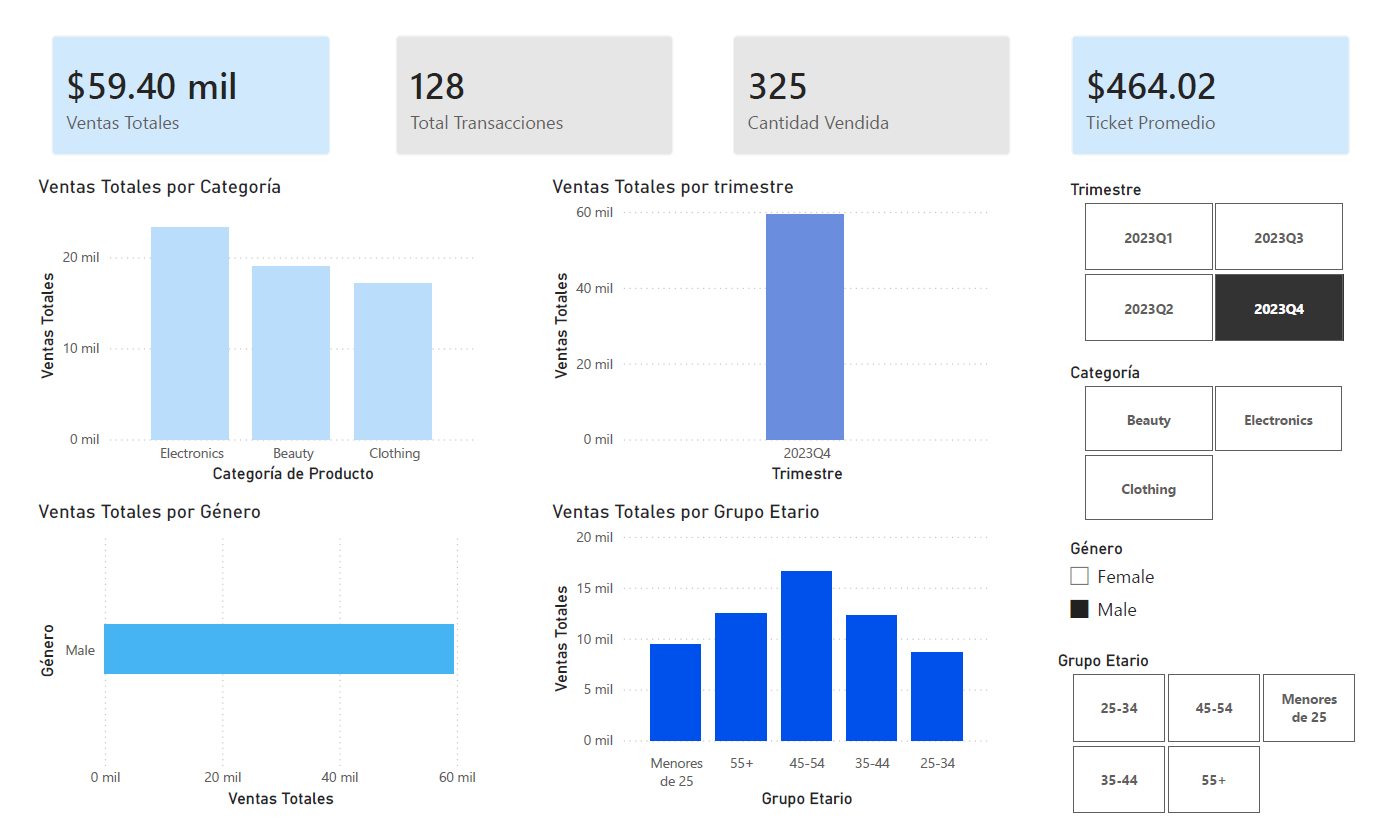

Layout of this report page (visuals, bound fields, positions):
{"tool":"powerbi","page":{"name":"Página 1","canvas":[1280,720],"ordinal":0},"visuals":[{"type":"cardVisual","fields":{"Data":["ventas_limpio.Ventas Totales"]},"box":[9.7,0,280.1,140.1],"z":0},{"type":"cardVisual","fields":{"Data":["ventas_limpio.Total Transacciones"]},"box":[314.2,0,279.1,140.1],"z":1000},{"type":"cardVisual","fields":{"Data":["ventas_limpio.Cantidad Vendida"]},"box":[611.8,0,279.1,140.1],"z":2000},{"type":"cardVisual","fields":{"Data":["ventas_limpio.Ticket Promedio"]},"box":[911.4,0,279.1,140.1],"z":3000},{"type":"columnChart","title":"Ventas Totales por Categoría","fields":{"Category":["ventas_limpio.Product Category"],"Y":["ventas_limpio.Ventas Totales"]},"box":[9.7,140.1,396.8,277.2],"z":4000},{"type":"clusteredColumnChart","fields":{"Category":["ventas_limpio.trimestre"],"Y":["ventas_limpio.Ventas Totales"]},"box":[464,140.1,396.8,277.2],"z":5000},{"type":"barChart","title":"Ventas Totales por Género","fields":{"Category":["ventas_limpio.Gender"],"Y":["ventas_limpio.Ventas Totales"]},"box":[10,427,397,277],"z":6000},{"type":"columnChart","title":"Ventas Totales por Grupo Etario","fields":{"Category":["ventas_limpio.grupo_etario"],"Y":["ventas_limpio.Ventas Totales"]},"box":[464,427,397,277],"z":7000},{"type":"slicer","title":"T","fields":{"Values":["ventas_limpio.trimestre"]},"box":[913.7,140.1,278.2,153.7],"z":8000},{"type":"slicer","fields":{"Values":["ventas_limpio.Product Category"]},"box":[914.3,301.5,277.2,150.8],"z":9000},{"type":"slicer","fields":{"Values":["ventas_limpio.Gender"]},"box":[914.3,457.1,276.2,91.4],"z":10000},{"type":"slicer","fields":{"Values":["ventas_limpio.grupo_etario"]},"box":[903,556.4,299.6,154.7],"z":11000}]}

Visuals, with their boxes on the page's 1280x720 design canvas (x1, y1, x2, y2). These are canvas units, not pixel positions in the 1391x820 screenshot, which may show the page scaled, cropped or inside an application window:
cardVisual - ventas_limpio.Ventas Totales: box=[10, 0, 290, 140]
cardVisual - ventas_limpio.Total Transacciones: box=[314, 0, 593, 140]
cardVisual - ventas_limpio.Cantidad Vendida: box=[612, 0, 891, 140]
cardVisual - ventas_limpio.Ticket Promedio: box=[911, 0, 1190, 140]
"Ventas Totales por Categoría" columnChart: box=[10, 140, 406, 417]
clusteredColumnChart - ventas_limpio.trimestre x ventas_limpio.Ventas Totales: box=[464, 140, 861, 417]
"Ventas Totales por Género" barChart: box=[10, 427, 407, 704]
"Ventas Totales por Grupo Etario" columnChart: box=[464, 427, 861, 704]
"T" slicer: box=[914, 140, 1192, 294]
slicer - ventas_limpio.Product Category: box=[914, 302, 1192, 452]
slicer - ventas_limpio.Gender: box=[914, 457, 1190, 548]
slicer - ventas_limpio.grupo_etario: box=[903, 556, 1203, 711]
